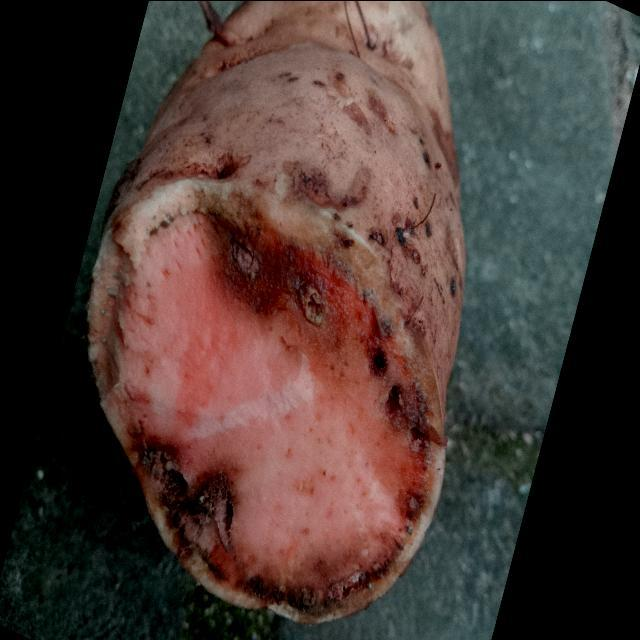Sick Sweet Potato_Tuber Rot: (89, 210, 446, 622)
